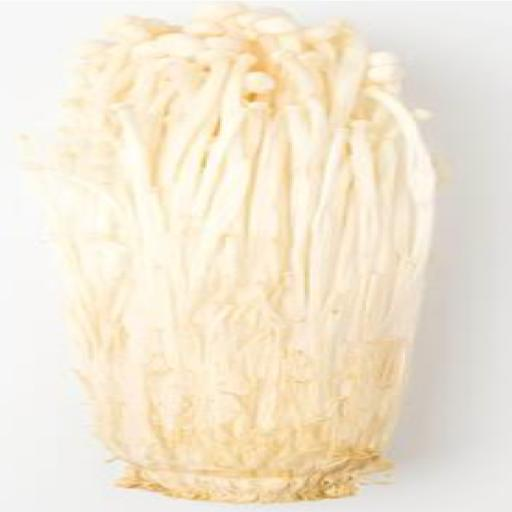Enoki Mushroom: (0, 0, 491, 512)
